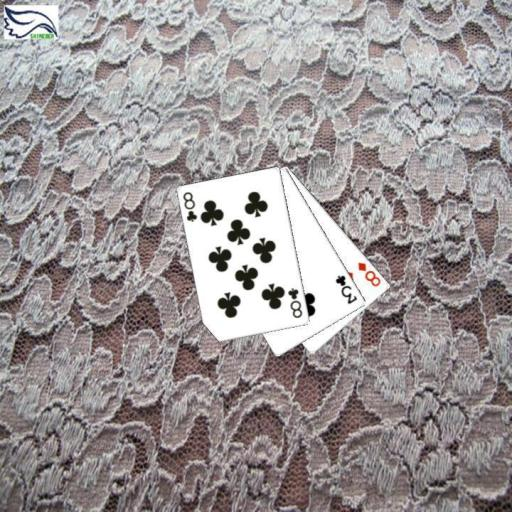card-corner: (332, 272, 359, 306), (355, 259, 382, 288), (286, 285, 304, 320), (180, 189, 198, 224)
